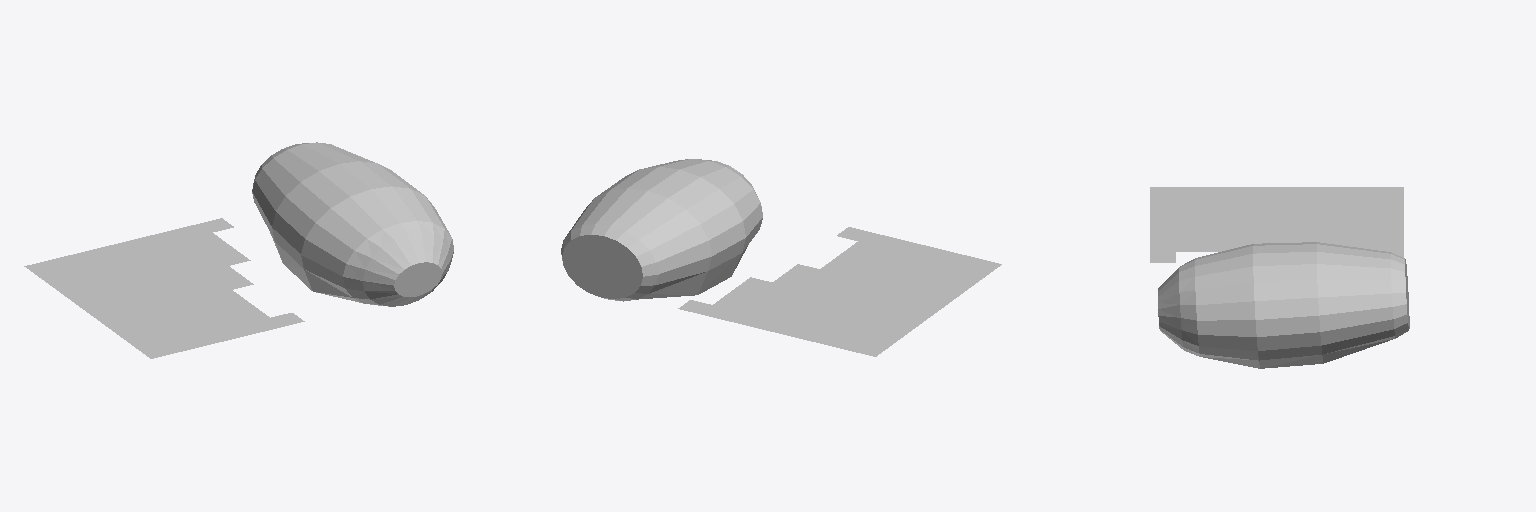
File: rock2.obj
3 renders of one model, left to right at view 1: azimuth 30°, elevation 25°; view 2: azimuth 150°, elevation 25°; view 3: azimuth 270°, elevation 25°, orthographic.
Parts seen in each view (by area): view 1: pSphere1, pPlane1; view 2: pSphere1, pPlane1; view 3: pSphere1, pPlane1.
Part boxes in pixels (left/top/right/bottom): pSphere1: left=252, top=142, right=453, bottom=306; pPlane1: left=24, top=218, right=304, bottom=358; pSphere1: left=561, top=159, right=762, bottom=301; pPlane1: left=678, top=227, right=1001, bottom=356; pSphere1: left=1158, top=242, right=1409, bottom=368; pPlane1: left=1150, top=187, right=1403, bottom=262.
Size of the model in its own units: 1.54 by 0.469 by 1.02.